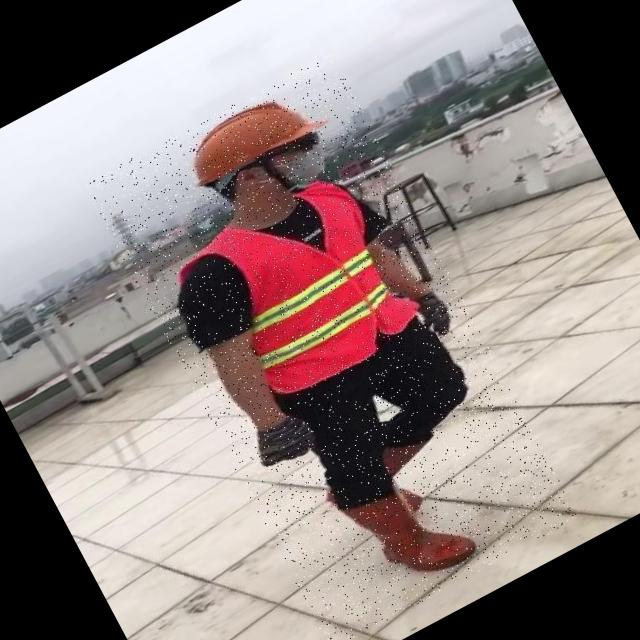hard_hat: (165, 72, 332, 202)
safety_vest: (195, 164, 426, 402)
vehicle: (83, 51, 579, 640)
work_boots: (339, 458, 484, 602)
